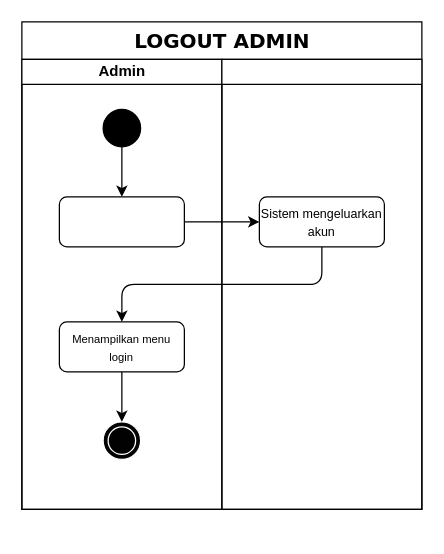
The diagram is 444 pixels wide and 554 high, and some of its shapes have lost their labels. The shapes that lost their labels are listed below. From the top down, each one's box as (x1, y1, x2, y2) in pixels, then its label:
(58, 196, 184, 247): Admin/User Meminta Logout
(221, 58, 422, 509): System
